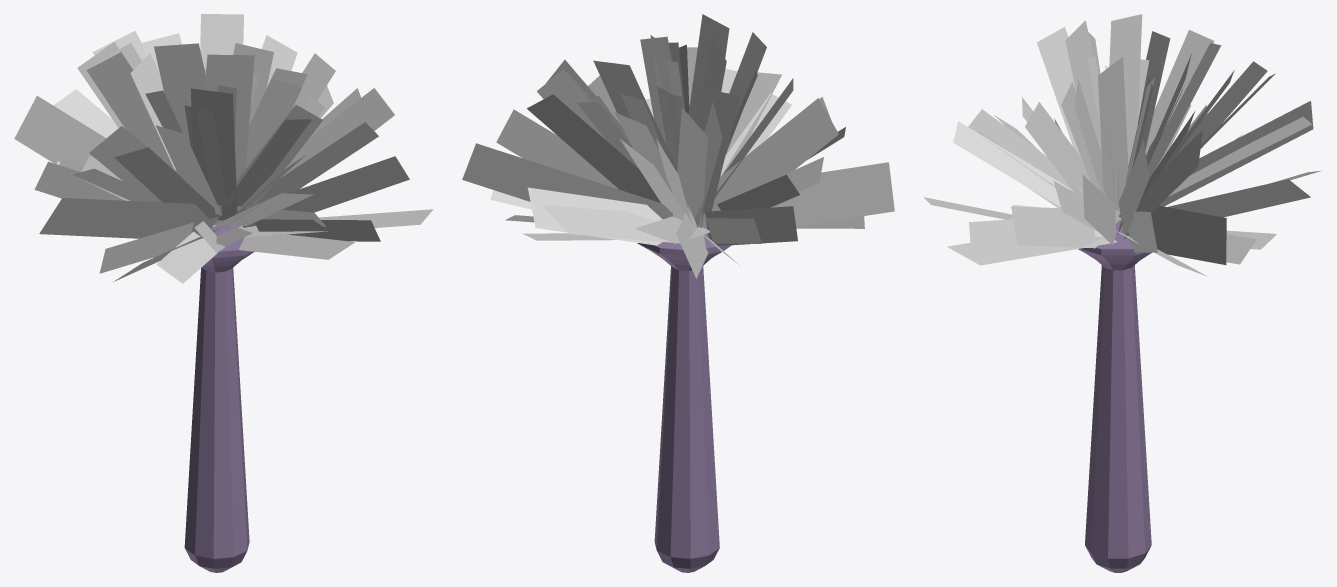
File: duster04.fbx
3 renders of one model, left to right at view 1: azimuth 30°, elevation 25°; view 2: azimuth 150°, elevation 25°; view 3: azimuth 270°, elevation 25°, orthographic.
Parts seen in each view (by area): view 1: Circle, Plane.105, Plane.116, Plane.113, Plane.082, Plane.096, Plane.092, Plane.107, Plane.102, Plane.078, Plane.080, Plane.087 (+21 smaller); view 2: Circle, Plane.104, Plane.071, Plane.105, Plane.070, Plane.075, Plane.063, Plane.065, Plane.115, Plane.111, Plane.110, Plane.066 (+24 smaller); view 3: Circle, Plane.077, Plane.071, Plane.082, Plane.107, Plane.091, Plane.116, Plane.065, Plane.085, Plane.113, Plane.084, Plane.070 (+18 smaller).
Boxes of the visible parts, x1,y1,x2,y2 form: Circle: (184,225,254,572); Plane.105: (39,198,221,238); Plane.116: (14,95,105,164); Plane.113: (86,52,173,168); Plane.082: (237,156,409,227); Plane.096: (190,88,237,220); Plane.092: (204,54,254,225); Plane.107: (154,43,222,221); Plane.102: (114,147,220,218); Plane.078: (230,88,394,226); Plane.080: (259,122,378,202); Plane.087: (222,119,311,206); Circle: (637,233,731,572); Plane.104: (702,98,838,233); Plane.071: (462,143,673,219); Plane.105: (702,162,894,227); Plane.070: (527,94,673,216); Plane.075: (496,109,618,189); Plane.063: (542,204,679,243); Plane.065: (527,187,662,245); Plane.115: (677,107,707,227); Plane.111: (694,88,740,213); Plane.110: (705,206,797,245); Plane.066: (593,60,702,225); Circle: (1078,220,1151,572); Plane.077: (1098,57,1128,210); Plane.071: (1151,205,1226,264); Plane.082: (1011,206,1102,248); Plane.107: (1109,14,1142,220); Plane.091: (953,121,1073,207); Plane.116: (1159,101,1313,206); Plane.065: (1121,179,1310,217); Plane.085: (1025,102,1090,196); Plane.113: (1116,30,1214,211); Plane.084: (947,235,1116,265); Plane.070: (1124,130,1202,238).
Size of the model in its own units: 11 by 15.45 by 10.43.
